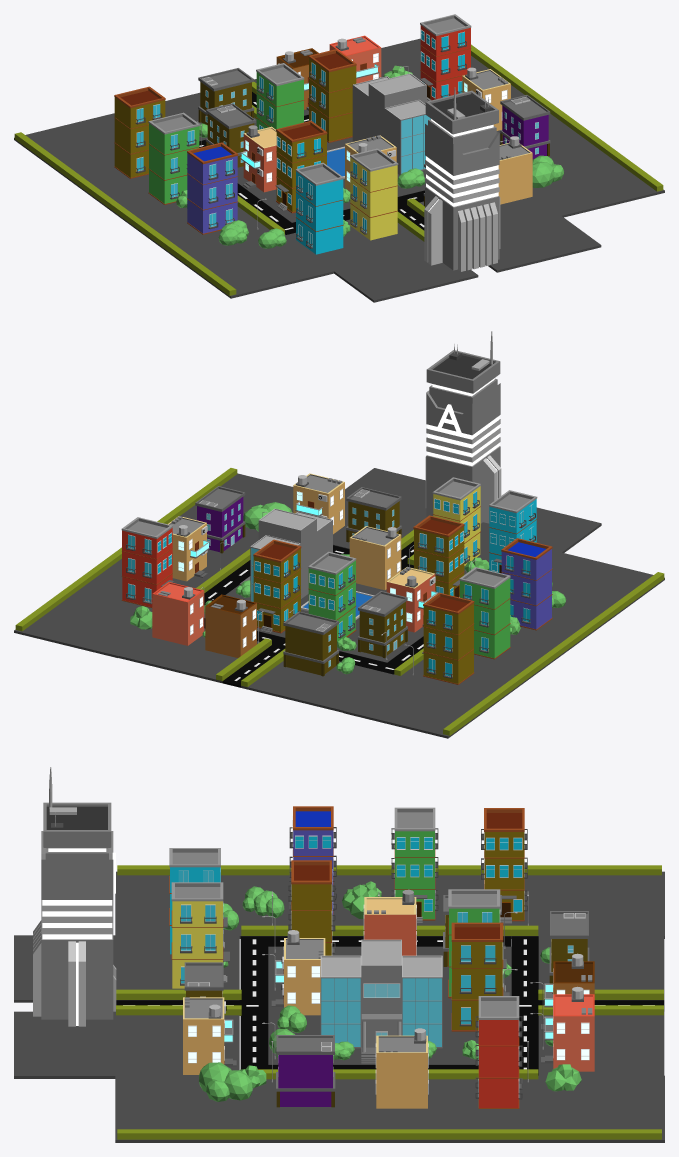
Rendered from Outside Layout.fbx.
The picture shows the model from 3 angles, top to bottom: view 1: azimuth 30°, elevation 25°; view 2: azimuth 150°, elevation 25°; view 3: azimuth 270°, elevation 25°; orthographic projection. The views are drawn at different scales.
Visible parts, largest first — view 1: Based.004, Cube.092, Main Building.008, Main Building.005, Main Building.007, Main Building, Main Building.004, Main Building.003, Main Building.006, Bush 3.007, Main Building.001, Cube.037 (+22 smaller); view 2: Based.004, Cube.092, Main Building.003, Main Building.005, Main Building.004, Main Building.006, Main Building, Cube.151, Bush 3.007, base.003, Main Building.001, base.002 (+18 smaller); view 3: Based.004, Cube.092, Bush 3.006, Main Building.006, Based, Cube.254, Bush 3.007, Main Building, Main Building.007, base.004, Cube.037, Cube.039 (+34 smaller).
Part boxes in pixels (x1,y1,x2,y2): Based.004: [14, 38, 664, 302]; Cube.092: [424, 90, 500, 270]; Main Building.008: [295, 162, 343, 254]; Main Building.005: [187, 142, 238, 234]; Main Building.007: [350, 148, 398, 240]; Main Building: [308, 49, 356, 142]; Main Building.004: [148, 112, 199, 204]; Main Building.003: [114, 86, 165, 178]; Main Building.006: [420, 14, 471, 100]; Bush 3.007: [14, 132, 236, 296]; Main Building.001: [256, 63, 304, 129]; Cube.037: [384, 100, 430, 174]; Based.004: [14, 468, 664, 738]; Cube.092: [425, 350, 501, 523]; Main Building.003: [423, 592, 474, 684]; Main Building.005: [501, 538, 552, 630]; Main Building.004: [459, 567, 510, 659]; Main Building.006: [121, 517, 172, 607]; Main Building: [253, 539, 301, 633]; Cube.151: [283, 611, 339, 675]; Bush 3.007: [443, 572, 664, 735]; base.003: [152, 582, 204, 645]; Main Building.001: [308, 551, 356, 641]; base.002: [205, 594, 256, 657]; Based.004: [14, 871, 664, 1142]; Cube.092: [41, 802, 116, 1026]; Bush 3.006: [117, 1129, 661, 1139]; Main Building.006: [478, 996, 519, 1108]; Based: [268, 946, 511, 1064]; Cube.254: [276, 1035, 335, 1106]; Bush 3.007: [117, 865, 661, 875]; Main Building: [451, 922, 503, 1031]; Main Building.007: [171, 882, 223, 988]; base.004: [376, 1035, 427, 1108]; Cube.037: [320, 955, 361, 1048]; Cube.039: [402, 955, 442, 1048].
Size of the model in its own units: 10300 by 4223 by 10549.
